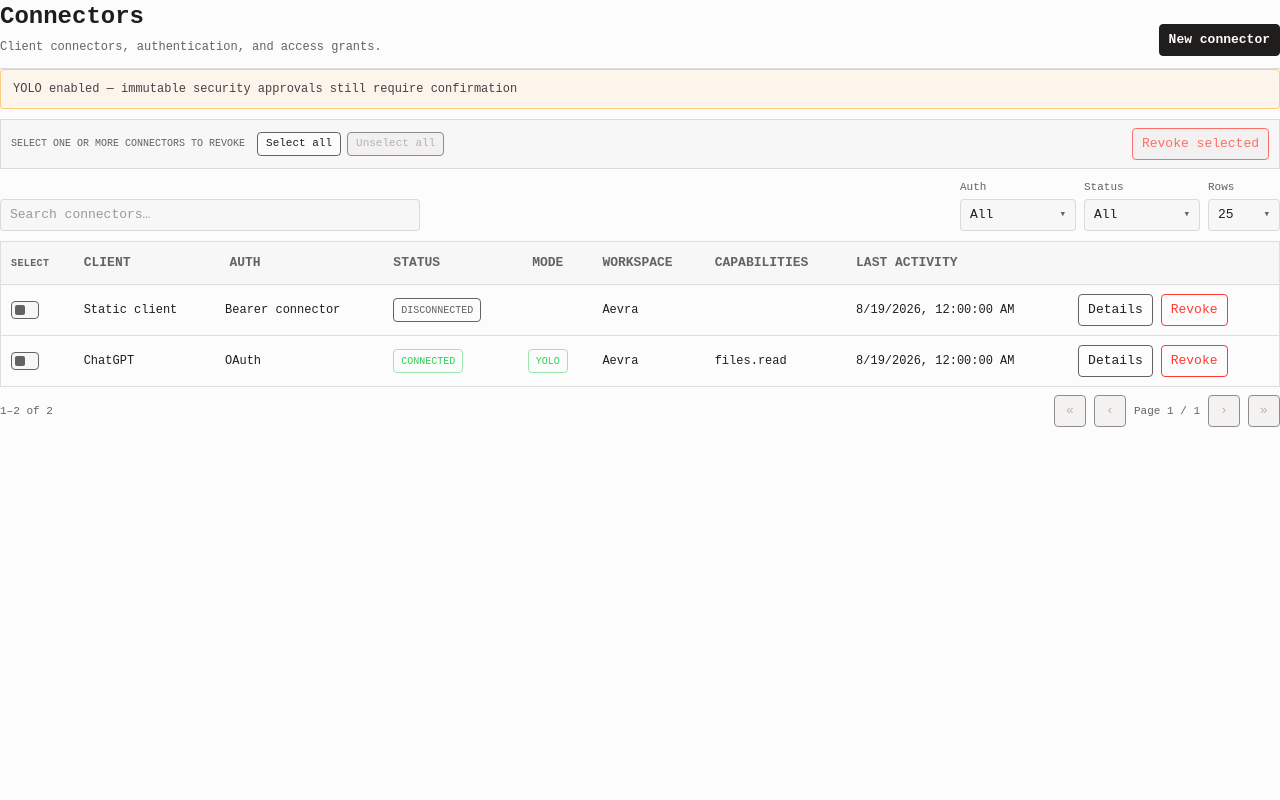
Scenario: ConnectorsPage › handles single connector revocation with cancel and confirm
The image size is (1280, 800).
Expected: the text "Static client" is shown, [74,285,215,336]
Click the button "Revoke" in the row of "Static client" at (1194, 310), box [1161,294,1228,326]
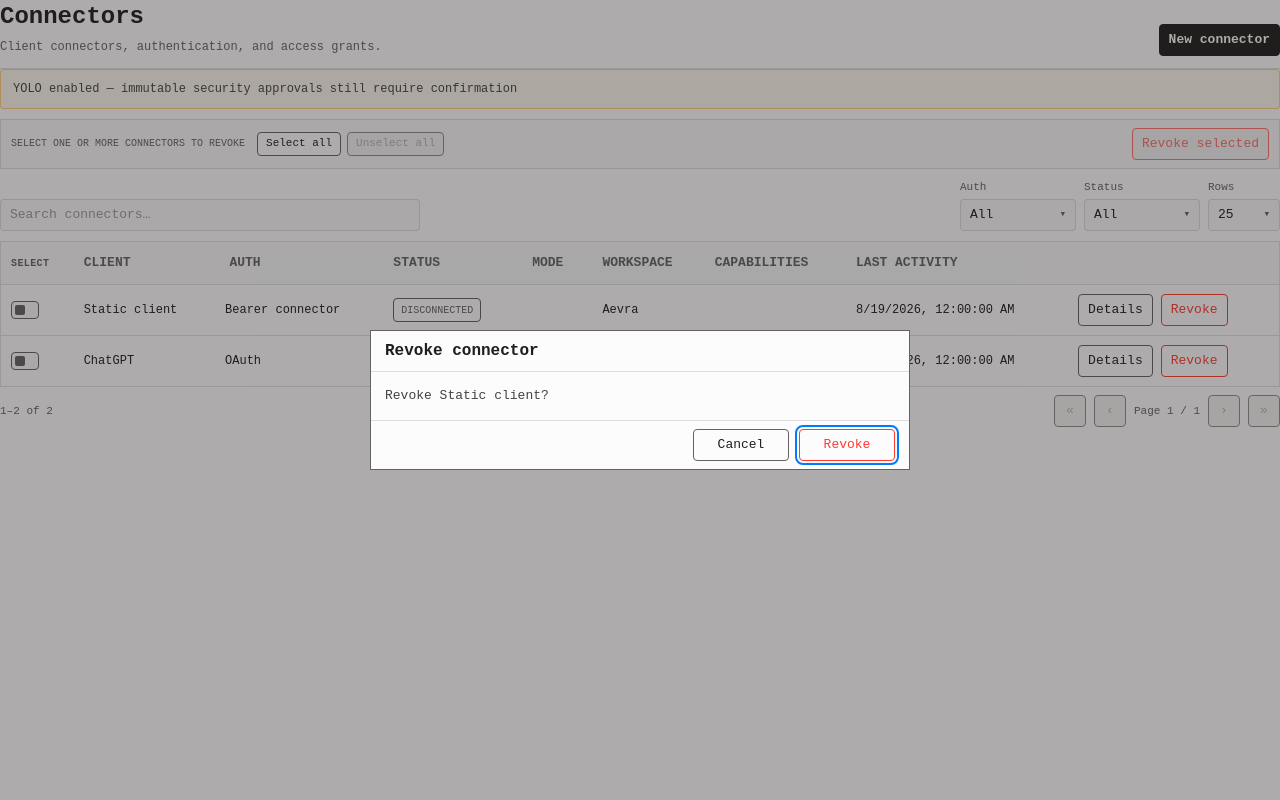
Click the button "Cancel" at (741, 445), box [693,429,789,461]
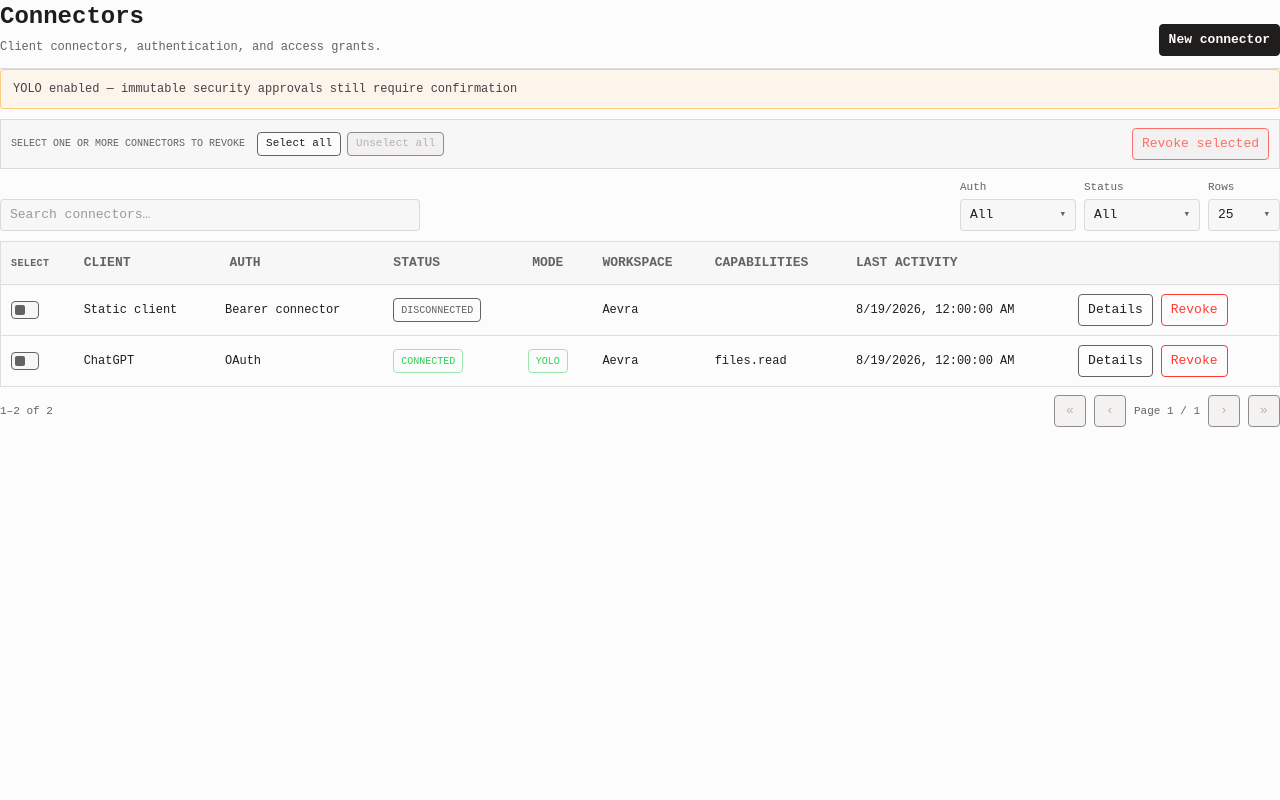
Result: the heading "Revoke connector" is gone
Click the button "Revoke" in the row of "Static client" at (1194, 310), box [1161,294,1228,326]
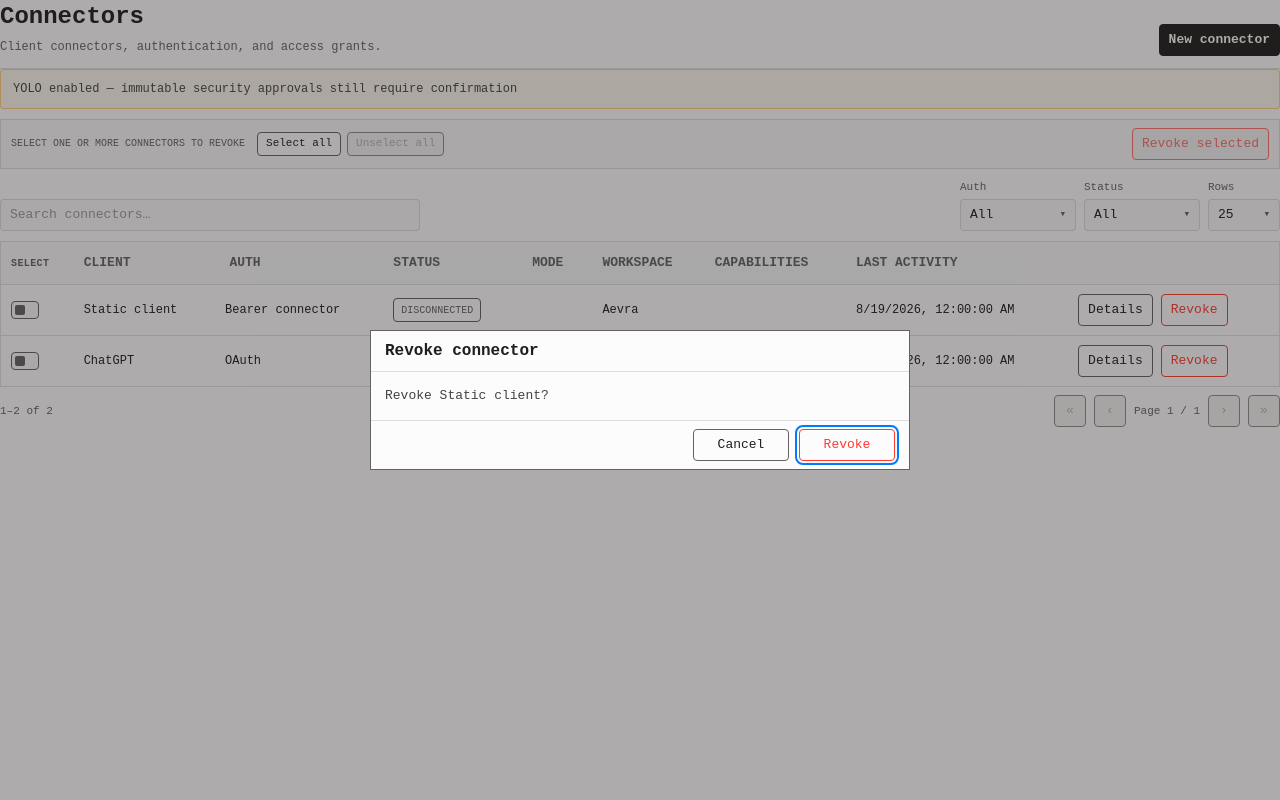
Click the button "Revoke" at (847, 445), box [799,429,895,461]
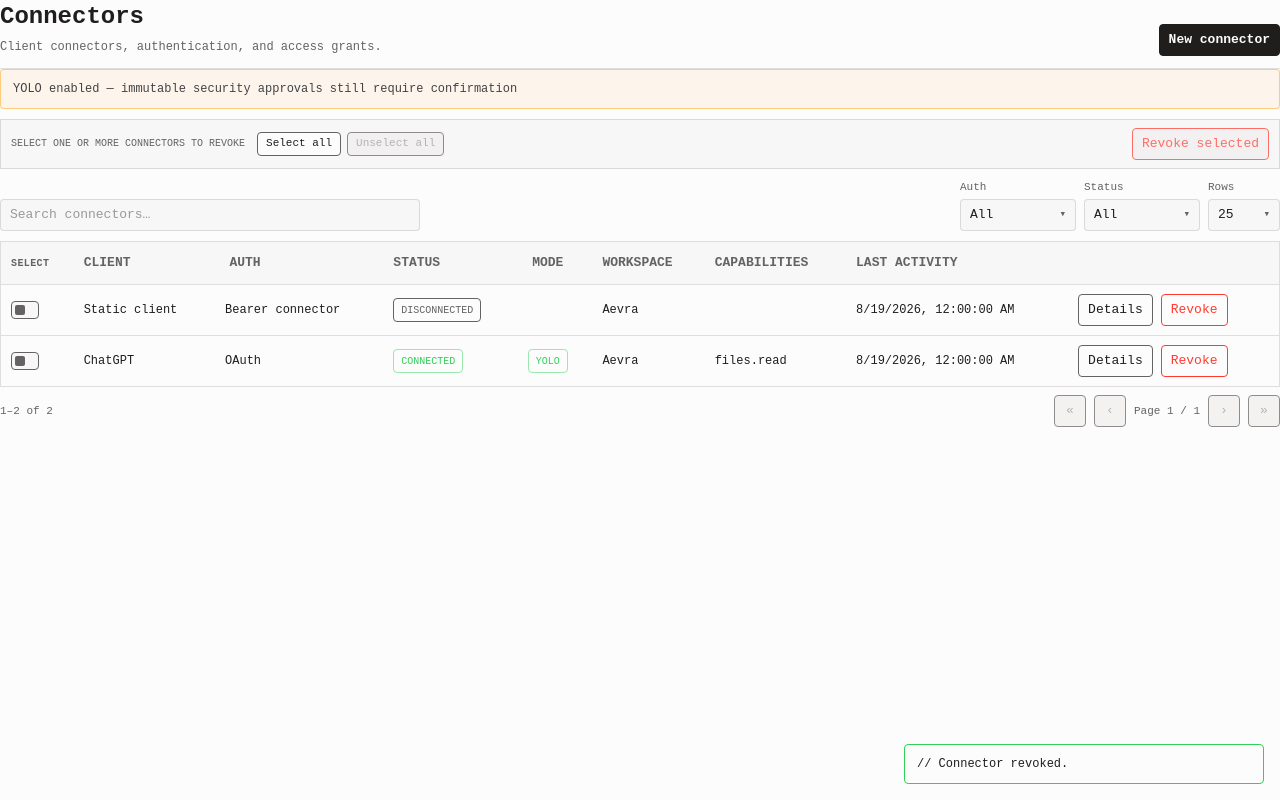
Result: the message reads "Connector revoked." at [939,757,1068,771]
